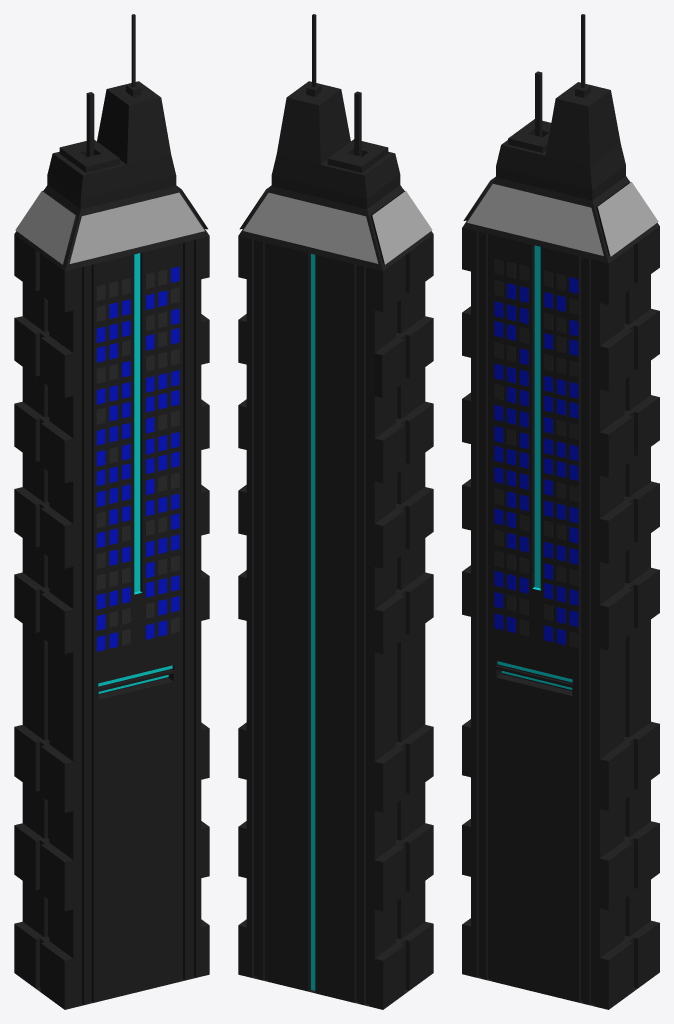
The model's file is Building4FIXEDWindows.fbx.
3 views of the same model, side by side, from view 1: azimuth 30°, elevation 25°; view 2: azimuth 150°, elevation 25°; view 3: azimuth 330°, elevation 25° (orthographic).
Visible parts, largest first — view 1: Building_V8Destroyed, Windows; view 2: Building_V8Destroyed; view 3: Building_V8Destroyed, Windows.
Boxes of the visible parts, x1,y1,x2,y2 form: Building_V8Destroyed: (14, 14, 209, 1009); Windows: (96, 266, 179, 651); Building_V8Destroyed: (238, 14, 433, 1009); Building_V8Destroyed: (462, 14, 659, 1009); Windows: (494, 259, 578, 648).
Bounding box in the file's own units: 6499 × 40627 × 3944.
